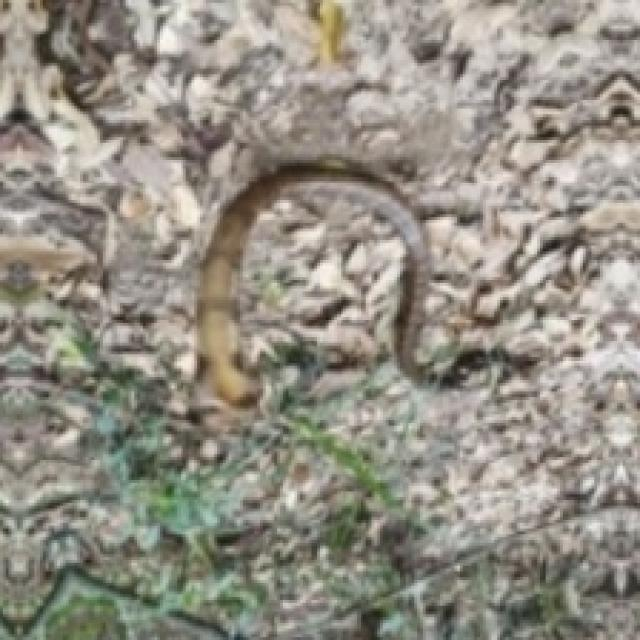king cobra: (197, 157, 429, 406)
